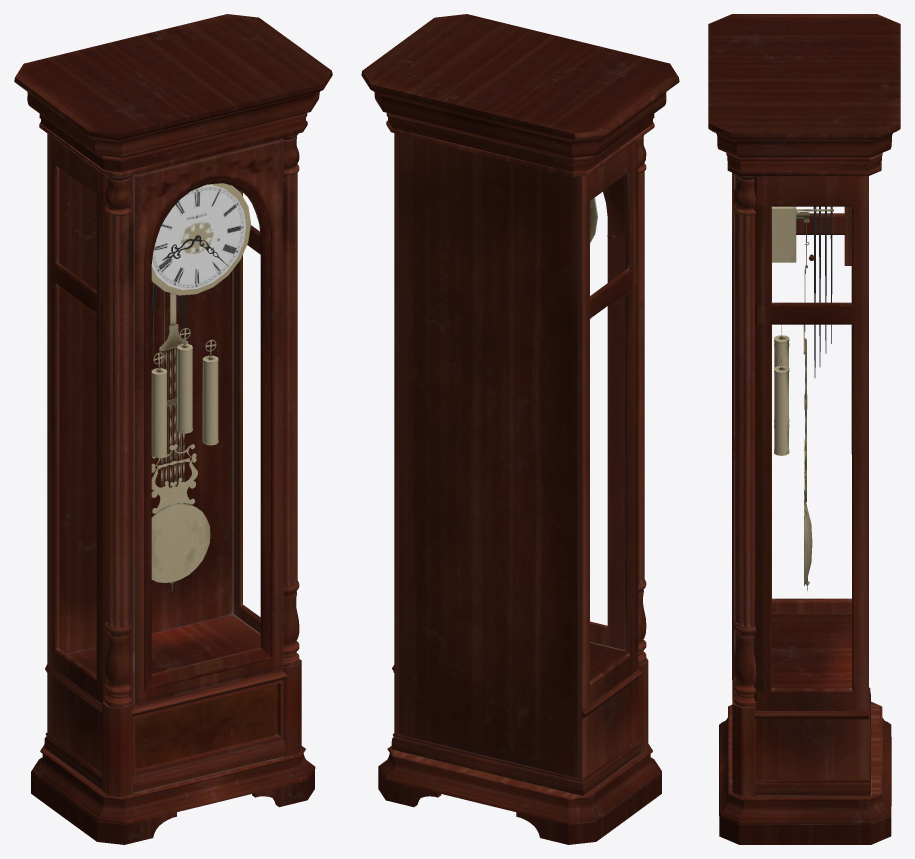
The model's file is fixed_grandfather_clock.glb.
The picture shows the model from 3 angles, left to right: view 1: azimuth 30°, elevation 25°; view 2: azimuth 150°, elevation 25°; view 3: azimuth 270°, elevation 25°; orthographic projection.
Visible parts, largest first — view 1: defaultMaterial; view 2: defaultMaterial; view 3: defaultMaterial.
Boxes of the visible parts, <box> form: defaultMaterial: <box>14,14,332,844</box>; defaultMaterial: <box>361,14,679,844</box>; defaultMaterial: <box>708,14,900,844</box>.
Size of the model in its own units: 0.7155 by 2 by 0.4855.
2 materials, 2 textured.
